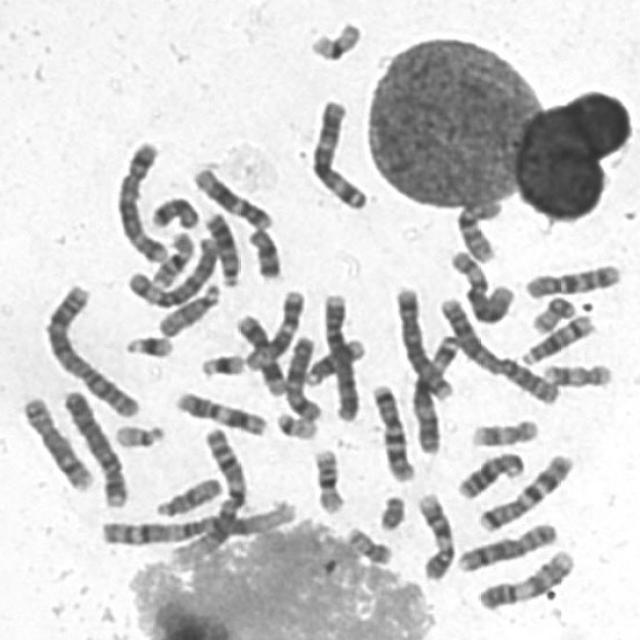A1: (162, 422, 248, 572), (95, 494, 300, 548)
A2: (434, 290, 562, 406), (39, 280, 142, 420)
A3: (306, 94, 371, 210), (409, 330, 463, 456)
B4: (58, 383, 131, 511), (318, 287, 364, 424)
B5: (110, 135, 172, 264), (390, 281, 456, 401)
C10: (519, 258, 624, 301), (450, 192, 505, 264)
C11: (169, 386, 270, 438), (231, 308, 286, 398)
C12: (188, 161, 276, 232), (240, 284, 308, 373)
C6: (122, 230, 221, 310), (445, 244, 517, 326)
C7: (473, 449, 577, 534), (367, 378, 418, 484)
C8: (16, 390, 96, 493), (452, 517, 561, 574)
C9: (473, 544, 577, 612), (412, 487, 458, 582)
D13: (453, 448, 528, 502), (200, 206, 242, 289)
D14: (517, 310, 597, 367), (299, 332, 368, 388)
D15: (153, 276, 223, 339), (150, 472, 223, 520)
E16: (147, 227, 197, 290), (308, 444, 348, 515)
E17: (466, 414, 542, 448), (539, 358, 616, 390)
E18: (242, 223, 284, 281), (145, 190, 202, 231)
F19: (305, 16, 365, 63)
F20: (341, 522, 394, 566), (526, 292, 578, 336)
G21: (120, 330, 177, 361), (195, 348, 248, 380)
G22: (109, 418, 168, 451), (270, 406, 320, 441)
X: (280, 331, 324, 423)
Y: (375, 490, 408, 532)
